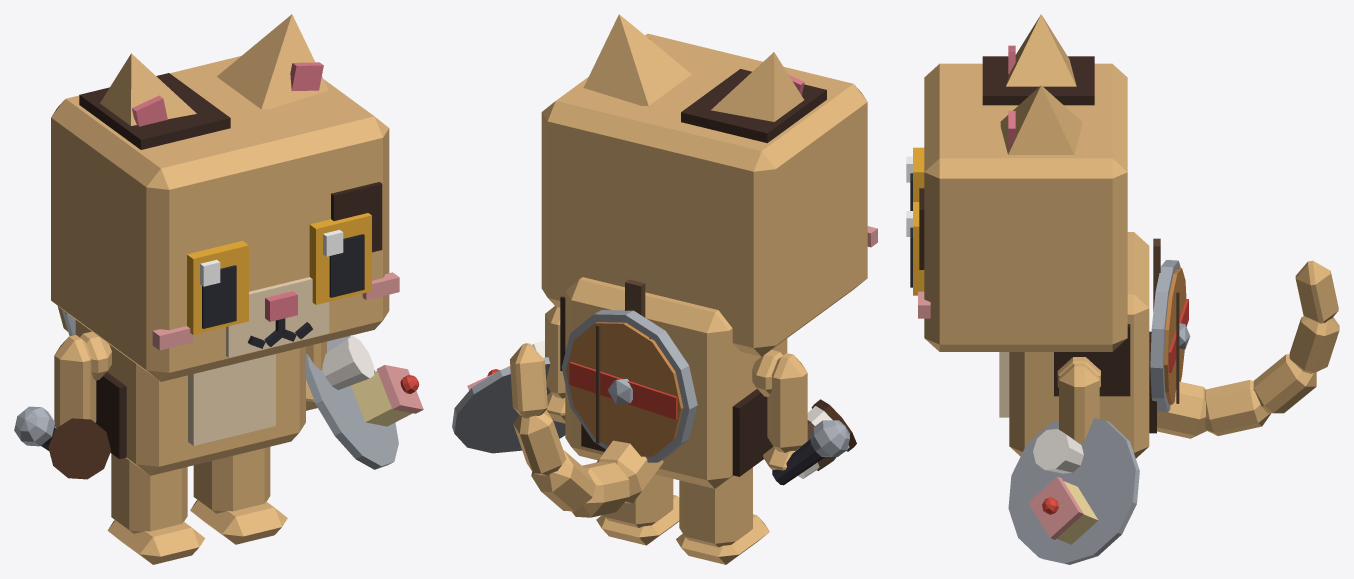
File: CatCafe_Cat_Squire_Work.fbx
The picture shows the model from 3 angles, left to right: view 1: azimuth 30°, elevation 25°; view 2: azimuth 150°, elevation 25°; view 3: azimuth 270°, elevation 25°; orthographic projection. The views are drawn at different scales.
Parts seen in each view (by area): view 1: CatCafe_Cat_Squire_Work_Head, CatCafe_Cat_Squire_Work_Body, CatCafe_Cat_Squire_Work_Held_Waiter, CatCafe_Cat_Squire_Work_LegB2, CatCafe_Cat_Squire_Work_LegB1, CatCafe_Cat_Squire_Work_EarL, CatCafe_Cat_Squire_Work_Eye2, CatCafe_Cat_Squire_Work_Eye1, CatCafe_Cat_Squire_Work_EarR, CatCafe_Cat_Squire_Work_LegF2, CatCafe_Cat_Squire_Work_Held_Barista, CatCafe_Cat_Squire_Work_Held_Entertainer (+1 smaller); view 2: CatCafe_Cat_Squire_Work_Head, CatCafe_Cat_Squire_Work_Body, CatCafe_Cat_Squire_Work_Prop, CatCafe_Cat_Squire_Work_Tail, CatCafe_Cat_Squire_Work_LegB2, CatCafe_Cat_Squire_Work_EarL, CatCafe_Cat_Squire_Work_Held_Waiter, CatCafe_Cat_Squire_Work_LegF2, CatCafe_Cat_Squire_Work_EarR, CatCafe_Cat_Squire_Work_LegB1, CatCafe_Cat_Squire_Work_Held_Entertainer, CatCafe_Cat_Squire_Work_LegF1 (+1 smaller); view 3: CatCafe_Cat_Squire_Work_Head, CatCafe_Cat_Squire_Work_Held_Waiter, CatCafe_Cat_Squire_Work_Body, CatCafe_Cat_Squire_Work_Tail, CatCafe_Cat_Squire_Work_Prop, CatCafe_Cat_Squire_Work_EarL, CatCafe_Cat_Squire_Work_EarR, CatCafe_Cat_Squire_Work_LegF1, CatCafe_Cat_Squire_Work_Eye1, CatCafe_Cat_Squire_Work_Eye2.
Boxes of the visible parts, x1=… form: CatCafe_Cat_Squire_Work_Head: x1=51, y1=56, x2=399, y2=381; CatCafe_Cat_Squire_Work_Body: x1=75, y1=320, x2=305, y2=475; CatCafe_Cat_Squire_Work_Held_Waiter: x1=306, y1=335, x2=423, y2=469; CatCafe_Cat_Squire_Work_LegB2: x1=107, y1=453, x2=205, y2=564; CatCafe_Cat_Squire_Work_LegB1: x1=190, y1=447, x2=287, y2=544; CatCafe_Cat_Squire_Work_EarL: x1=216, y1=14, x2=328, y2=109; CatCafe_Cat_Squire_Work_Eye2: x1=187, y1=241, x2=248, y2=334; CatCafe_Cat_Squire_Work_Eye1: x1=309, y1=213, x2=371, y2=304; CatCafe_Cat_Squire_Work_EarR: x1=100, y1=53, x2=196, y2=126; CatCafe_Cat_Squire_Work_LegF2: x1=54, y1=335, x2=96, y2=427; CatCafe_Cat_Squire_Work_Held_Barista: x1=48, y1=418, x2=110, y2=479; CatCafe_Cat_Squire_Work_Held_Entertainer: x1=14, y1=406, x2=55, y2=450; CatCafe_Cat_Squire_Work_Head: x1=541, y1=33, x2=877, y2=356; CatCafe_Cat_Squire_Work_Body: x1=560, y1=277, x2=787, y2=488; CatCafe_Cat_Squire_Work_Prop: x1=561, y1=279, x2=697, y2=462; CatCafe_Cat_Squire_Work_Tail: x1=510, y1=343, x2=663, y2=517; CatCafe_Cat_Squire_Work_LegB2: x1=676, y1=467, x2=769, y2=564; CatCafe_Cat_Squire_Work_EarL: x1=583, y1=14, x2=691, y2=105; CatCafe_Cat_Squire_Work_Held_Waiter: x1=452, y1=340, x2=565, y2=453; CatCafe_Cat_Squire_Work_LegF2: x1=763, y1=353, x2=807, y2=470; CatCafe_Cat_Squire_Work_EarR: x1=711, y1=52, x2=804, y2=121; CatCafe_Cat_Squire_Work_LegB1: x1=596, y1=474, x2=679, y2=545; CatCafe_Cat_Squire_Work_Held_Entertainer: x1=772, y1=420, x2=849, y2=485; CatCafe_Cat_Squire_Work_LegF1: x1=545, y1=306, x2=565, y2=423; CatCafe_Cat_Squire_Work_Head: x1=918, y1=56, x2=1127, y2=351; CatCafe_Cat_Squire_Work_Held_Waiter: x1=1008, y1=418, x2=1139, y2=564; CatCafe_Cat_Squire_Work_Body: x1=999, y1=232, x2=1156, y2=458; CatCafe_Cat_Squire_Work_Tail: x1=1157, y1=260, x2=1339, y2=438; CatCafe_Cat_Squire_Work_Prop: x1=1150, y1=238, x2=1190, y2=412; CatCafe_Cat_Squire_Work_EarL: x1=1000, y1=85, x2=1081, y2=154; CatCafe_Cat_Squire_Work_EarR: x1=1006, y1=14, x2=1076, y2=86; CatCafe_Cat_Squire_Work_LegF1: x1=1059, y1=363, x2=1099, y2=444; CatCafe_Cat_Squire_Work_Eye1: x1=906, y1=202, x2=924, y2=295; CatCafe_Cat_Squire_Work_Eye2: x1=906, y1=147, x2=924, y2=210.
Bounding box in the file's own units: 1.53 × 1.93 × 1.62.
1 material, 1 textured.
